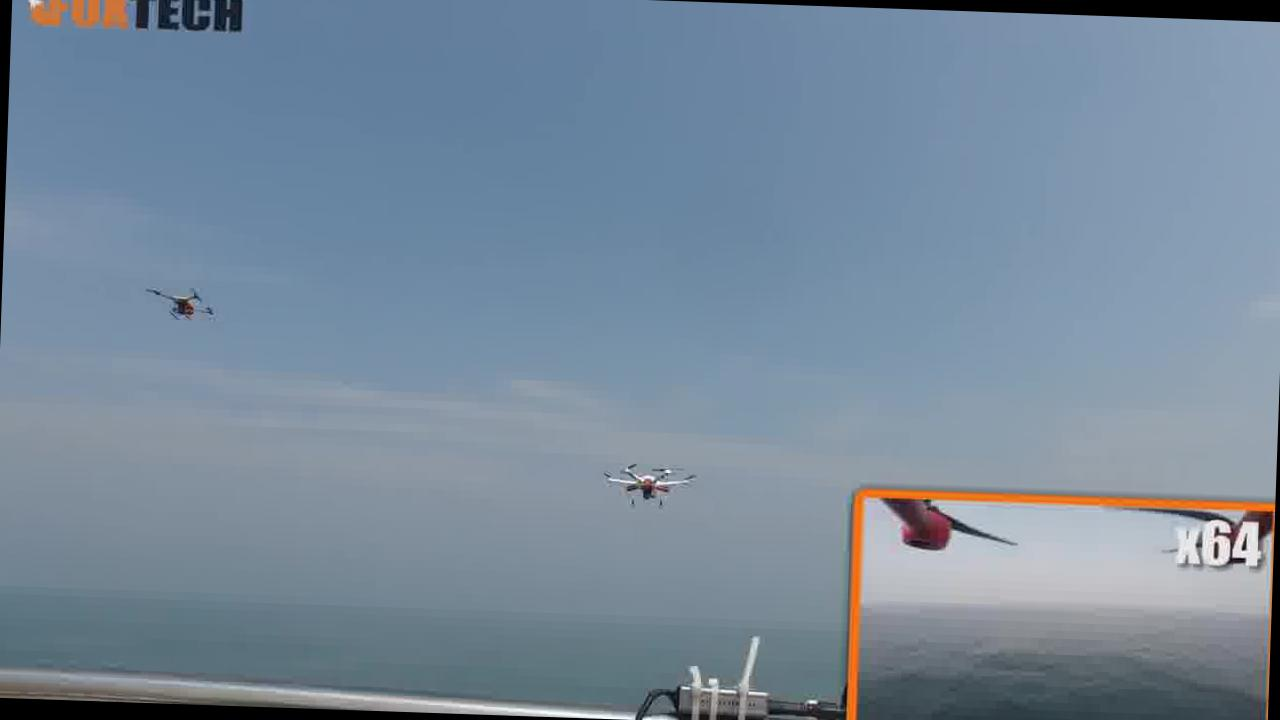drone: (580, 449, 704, 519)
